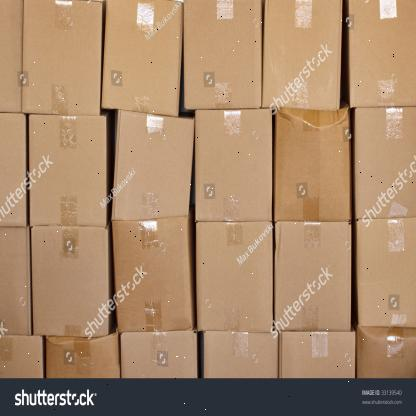box: (102, 0, 182, 118), (21, 0, 102, 115), (112, 220, 192, 333), (197, 219, 273, 337), (262, 0, 344, 109), (194, 110, 273, 222), (113, 110, 195, 217), (29, 116, 108, 227), (274, 109, 350, 221), (32, 225, 108, 337), (274, 221, 350, 333), (184, 0, 262, 108), (349, 0, 416, 104), (355, 107, 416, 218), (358, 215, 416, 325), (277, 330, 357, 376), (120, 333, 198, 379), (202, 334, 280, 380), (46, 334, 120, 378), (0, 228, 30, 336), (356, 326, 416, 378), (0, 114, 26, 226), (0, 0, 20, 113), (1, 336, 43, 377)
